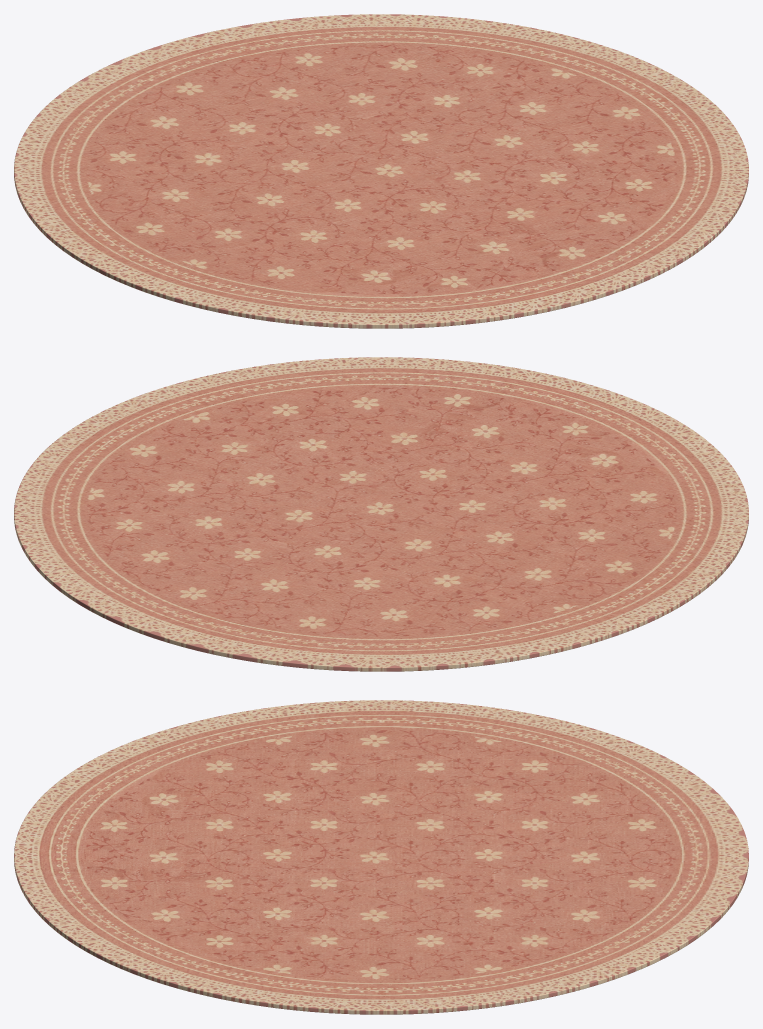
File: SM_MoleControlV2_FloralRug240.fbx
3 renders of one model, top to bottom at view 1: azimuth 30°, elevation 25°; view 2: azimuth 150°, elevation 25°; view 3: azimuth 270°, elevation 25°, orthographic.
Visible parts, largest first — view 1: SM_MoleControlV2_FloralRug240; view 2: SM_MoleControlV2_FloralRug240; view 3: SM_MoleControlV2_FloralRug240.
Part boxes in pixels (<box>): SM_MoleControlV2_FloralRug240: <box>14,14,748,328</box>; SM_MoleControlV2_FloralRug240: <box>14,357,748,671</box>; SM_MoleControlV2_FloralRug240: <box>14,700,748,1014</box>.
Size of what is drawn, in the model's own units: 240 by 240 by 1.6.
